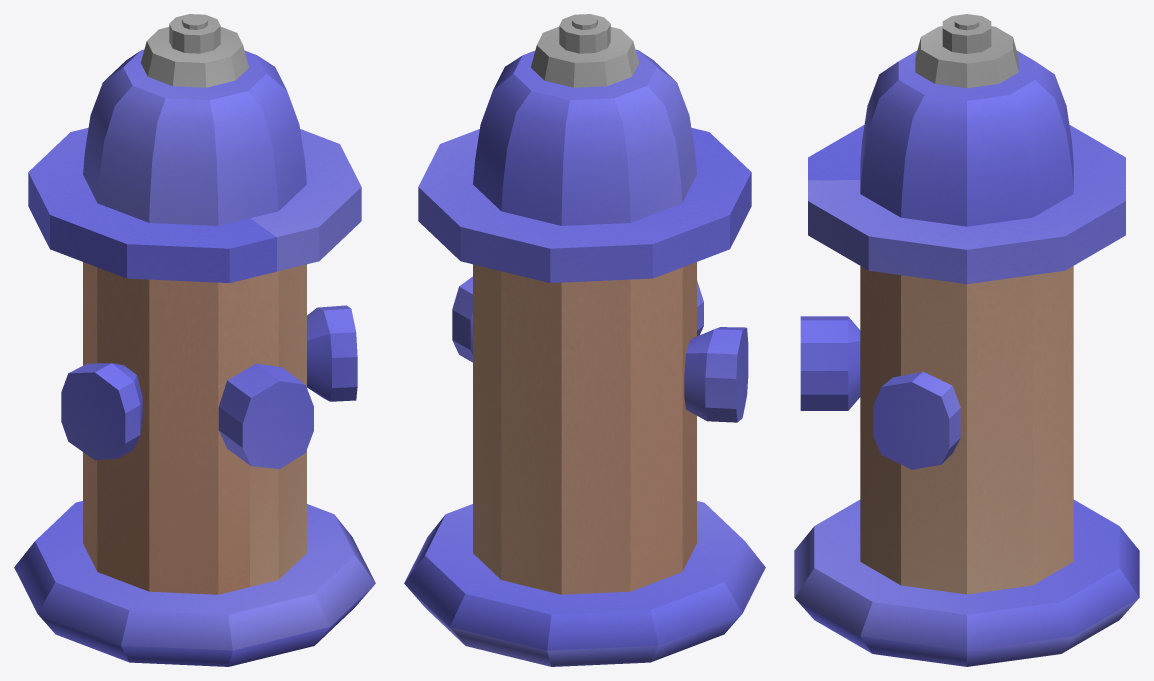
File: FireHydrant.fbx
3 views of the same model, side by side, from view 1: azimuth 30°, elevation 25°; view 2: azimuth 150°, elevation 25°; view 3: azimuth 270°, elevation 25° (orthographic).
Parts seen in each view (by area): view 1: pCylinder2; view 2: pCylinder2; view 3: pCylinder2.
Boxes of the visible parts, box(x1,y1,x2,y2) form: pCylinder2: box(14, 14, 375, 666); pCylinder2: box(404, 14, 765, 666); pCylinder2: box(794, 14, 1139, 666).
Bounding box in the file's own units: 65.46 × 115 × 62.26.
1 material, 1 textured.
